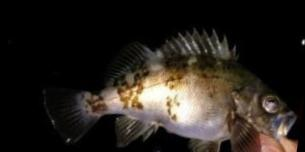fish: (45, 27, 296, 152)
